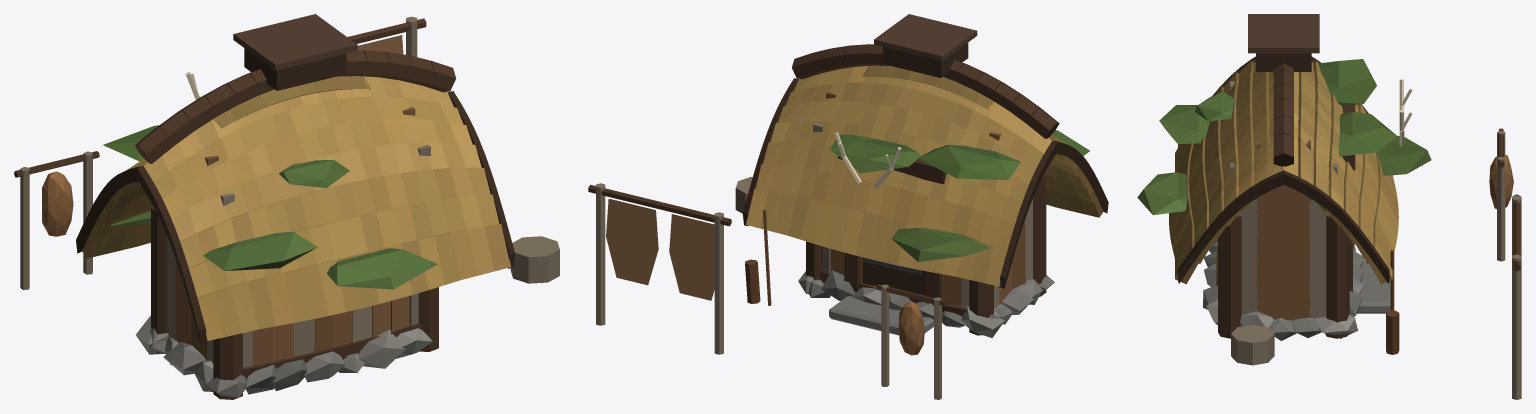
The model's file is HuntingLodge.glb.
3 renders of one model, left to right at view 1: azimuth 30°, elevation 25°; view 2: azimuth 150°, elevation 25°; view 3: azimuth 270°, elevation 25°, orthographic. The views are drawn at different scales.
Parts seen in each view (by area): view 1: Mat_Thatch_a08148, Mat_Wood_4b3423, Mat_Wood_7e6442, Mat_Wood_422d1f, Mat_Leaves_547038, Mat_Stone_6b6a64, Mat_Thatch_846a3a, Mat_Stone_7c7b74, Mat_Leaves_4e6833, Mat_Leaves_485e2e; view 2: Mat_Thatch_a08148, Mat_Wood_7e6442, Mat_Wood_4b3423, Mat_Wood_422d1f, Mat_Stone_7c7b74, Mat_Leaves_485e2e, Mat_Leaves_4e6833, Mat_Stone_6b6a64, Mat_Thatch_846a3a, Mat_Leaves_547038, Mat_Cloth_deceb2; view 3: Mat_Thatch_a08148, Mat_Wood_7e6442, Mat_Wood_4b3423, Mat_Wood_422d1f, Mat_Leaves_547038, Mat_Leaves_485e2e, Mat_Stone_7c7b74, Mat_Leaves_4e6833, Mat_Thatch_846a3a, Mat_Stone_6b6a64, Mat_Cloth_deceb2.
Part boxes in pixels (<box>): Mat_Thatch_a08148: <box>82,76,511,367</box>; Mat_Wood_4b3423: <box>14,14,509,399</box>; Mat_Wood_7e6442: <box>20,16,559,364</box>; Mat_Wood_422d1f: <box>76,48,514,378</box>; Mat_Leaves_547038: <box>103,126,437,289</box>; Mat_Stone_6b6a64: <box>149,328,405,397</box>; Mat_Thatch_846a3a: <box>87,76,432,267</box>; Mat_Stone_7c7b74: <box>136,315,432,396</box>; Mat_Leaves_4e6833: <box>110,126,400,285</box>; Mat_Leaves_485e2e: <box>111,125,402,289</box>; Mat_Thatch_a08148: <box>746,66,1078,286</box>; Mat_Wood_7e6442: <box>596,91,1103,399</box>; Mat_Wood_4b3423: <box>588,14,1059,335</box>; Mat_Wood_422d1f: <box>742,42,1108,315</box>; Mat_Stone_7c7b74: <box>798,271,1042,337</box>; Mat_Leaves_485e2e: <box>862,139,1001,261</box>; Mat_Leaves_4e6833: <box>830,134,1089,261</box>; Mat_Stone_6b6a64: <box>808,270,1054,332</box>; Mat_Thatch_846a3a: <box>800,65,1093,250</box>; Mat_Leaves_547038: <box>957,130,1089,179</box>; Mat_Cloth_deceb2: <box>834,132,901,188</box>; Mat_Thatch_a08148: <box>1169,61,1398,318</box>; Mat_Wood_7e6442: <box>1175,66,1521,399</box>; Mat_Wood_4b3423: <box>1178,14,1520,354</box>; Mat_Wood_422d1f: <box>1178,53,1389,286</box>; Mat_Leaves_547038: <box>1137,59,1376,215</box>; Mat_Leaves_485e2e: <box>1177,61,1431,198</box>; Mat_Stone_7c7b74: <box>1203,243,1390,340</box>; Mat_Leaves_4e6833: <box>1161,61,1426,204</box>; Mat_Thatch_846a3a: <box>1187,61,1380,263</box>; Mat_Stone_6b6a64: <box>1203,239,1390,338</box>; Mat_Cloth_deceb2: <box>1399,79,1412,146</box>.
Bounding box in the file's own units: 13.4 × 9.46 × 12.37.
1 material, 1 textured.
